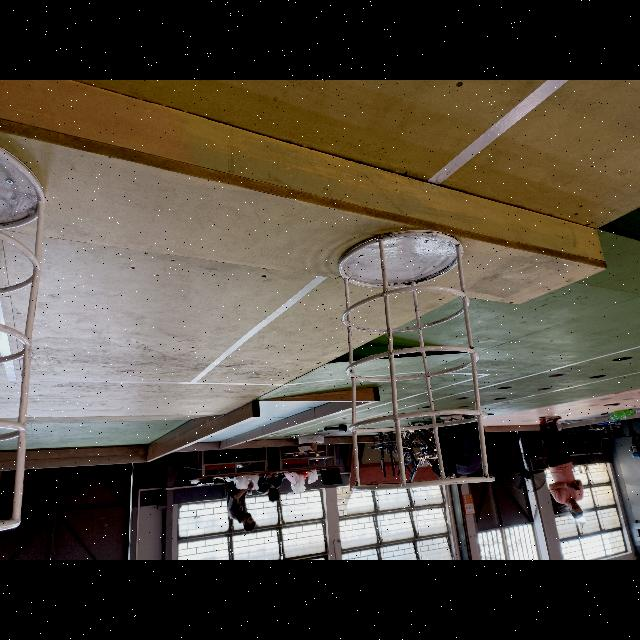S: (338, 231, 495, 490), (0, 145, 48, 530)
